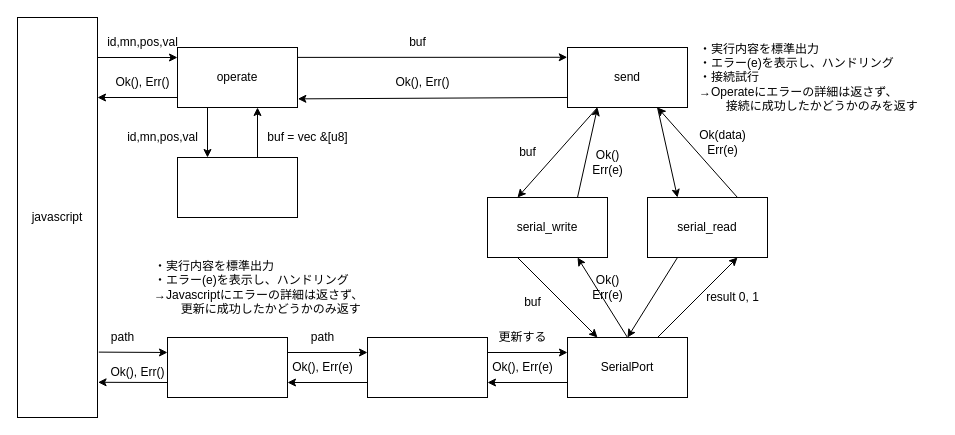
This 955x435 diagram has some shape labels left out. The centre of each missing label's shape, as x and y in pixels:
create_serialport: the point at 427,367
format: the point at 237,187
set_serialport: the point at 227,367
